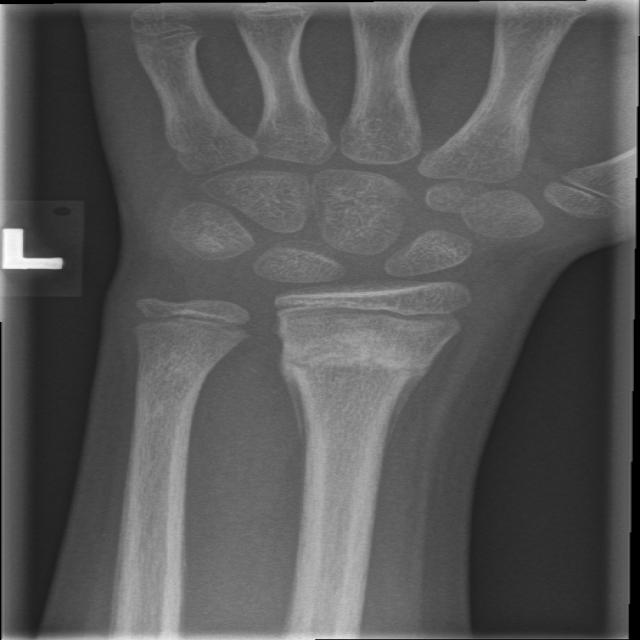radius fracture: (257, 320, 464, 461)
